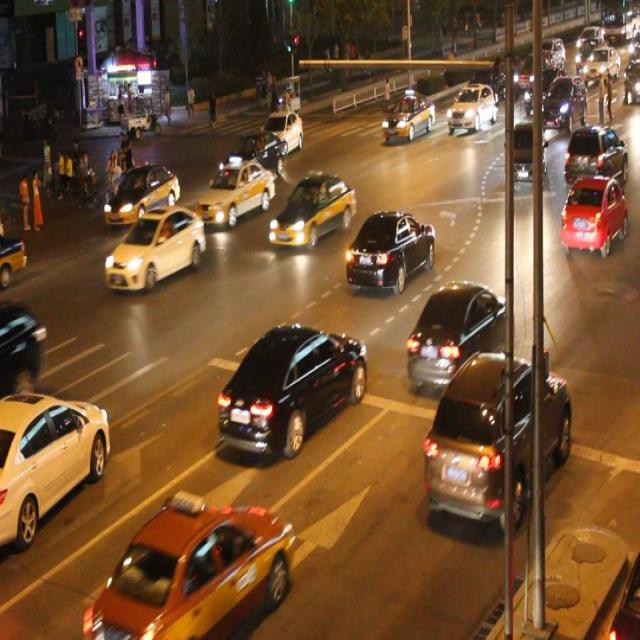car: (88, 489, 294, 640), (422, 351, 569, 520), (218, 324, 365, 453), (1, 388, 110, 544), (406, 282, 514, 388), (105, 204, 204, 289), (344, 207, 434, 293), (268, 174, 356, 244), (195, 155, 275, 225), (558, 173, 626, 250), (104, 164, 180, 224), (564, 123, 627, 190), (1, 300, 44, 396), (220, 126, 285, 184), (382, 92, 434, 139), (508, 122, 544, 180), (259, 110, 303, 154), (1, 232, 28, 284)
